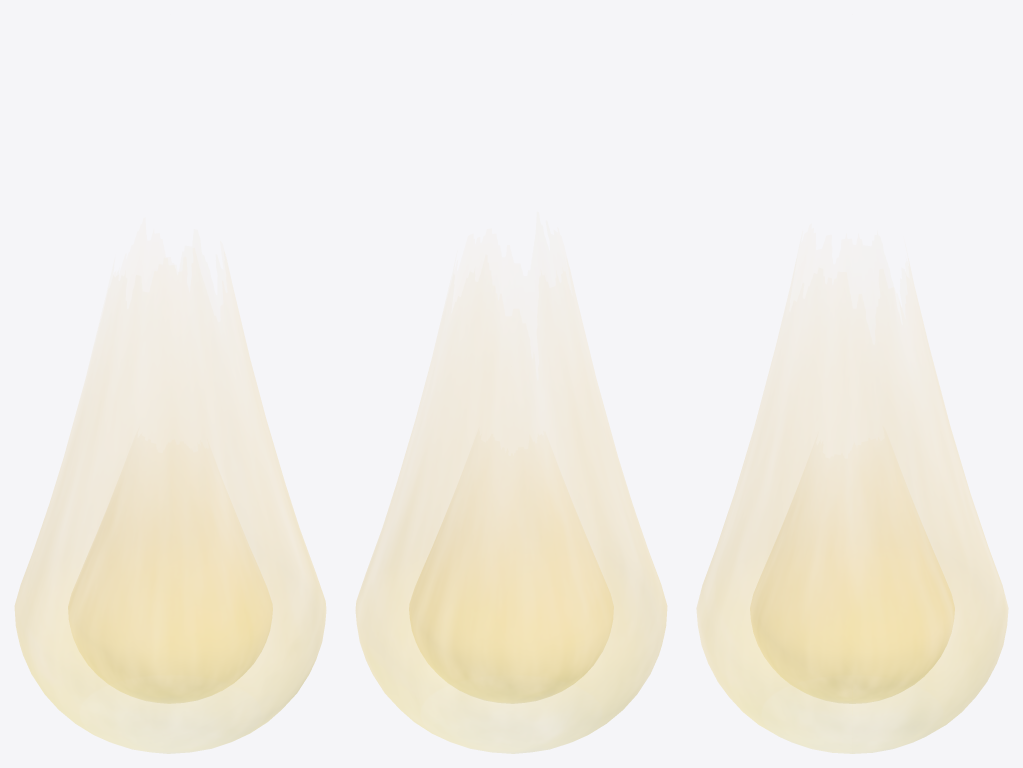
The model's file is head_gold.glb.
3 renders of one model, left to right at view 1: azimuth 30°, elevation 25°; view 2: azimuth 150°, elevation 25°; view 3: azimuth 270°, elevation 25°, orthographic.
Parts seen in each view (by area): view 1: head; view 2: head; view 3: head.
Boxes of the visible parts, x1,y1,x2,y2 form: head: (15,401,325,753); head: (356,404,666,753); head: (697,400,1007,753).
Size of the model in its own units: 3.5 by 8.96 by 3.5.
2 materials, 2 textured.
